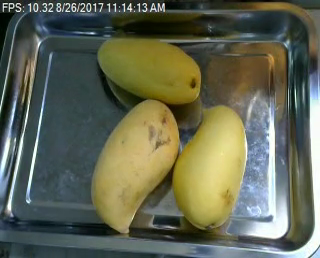Mango: (88, 98, 179, 238), (167, 102, 252, 233), (93, 35, 207, 105)
